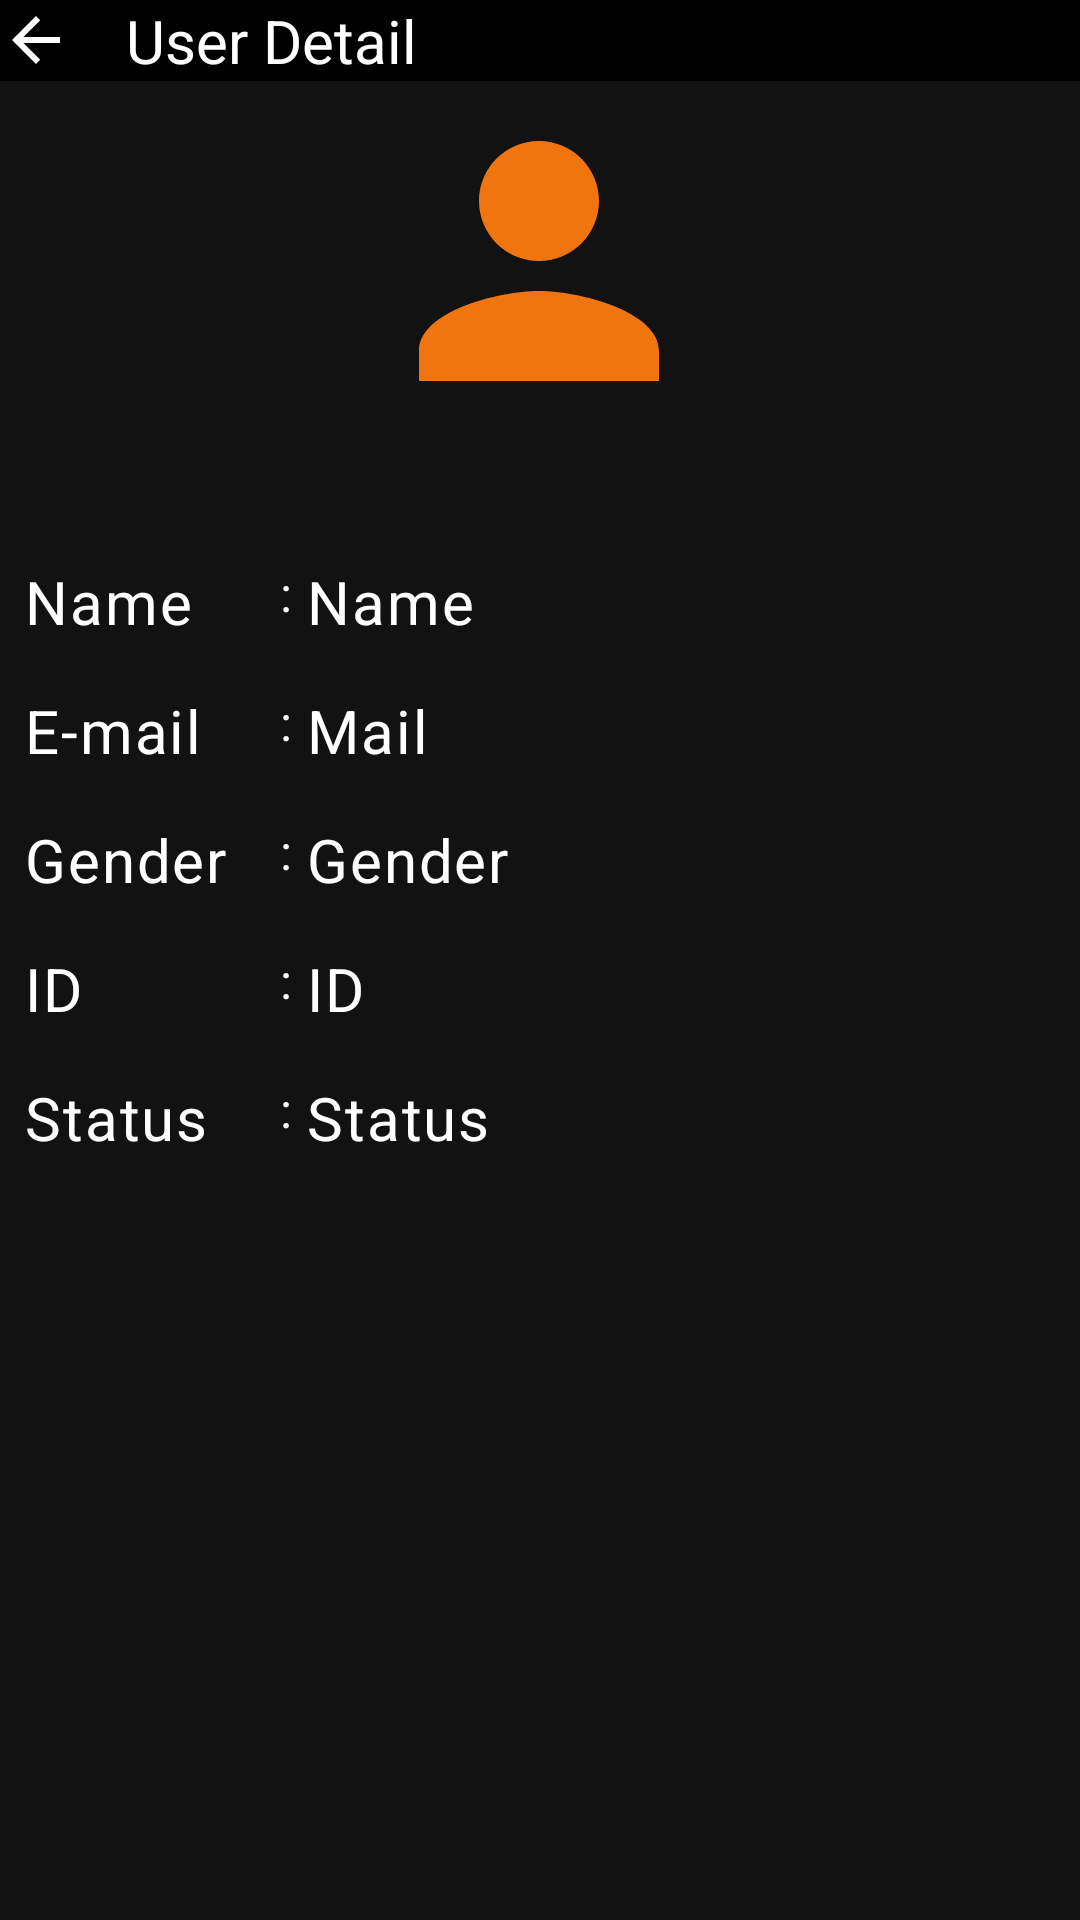

Named icons in this screenshot (1080px x 1920px) and their centers, (x,y):
arrow back: (36,40)
person: (539,261)
